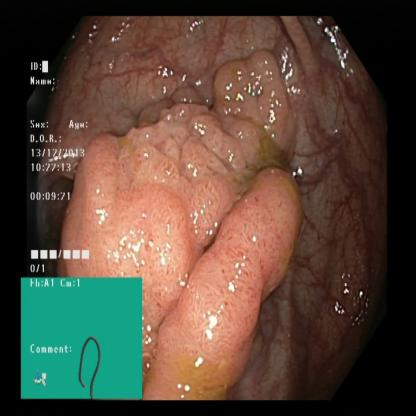Labels: (27, 46, 112, 275), (20, 278, 144, 402)
Polyps: (115, 106, 299, 276), (143, 278, 266, 402), (68, 127, 116, 277)
